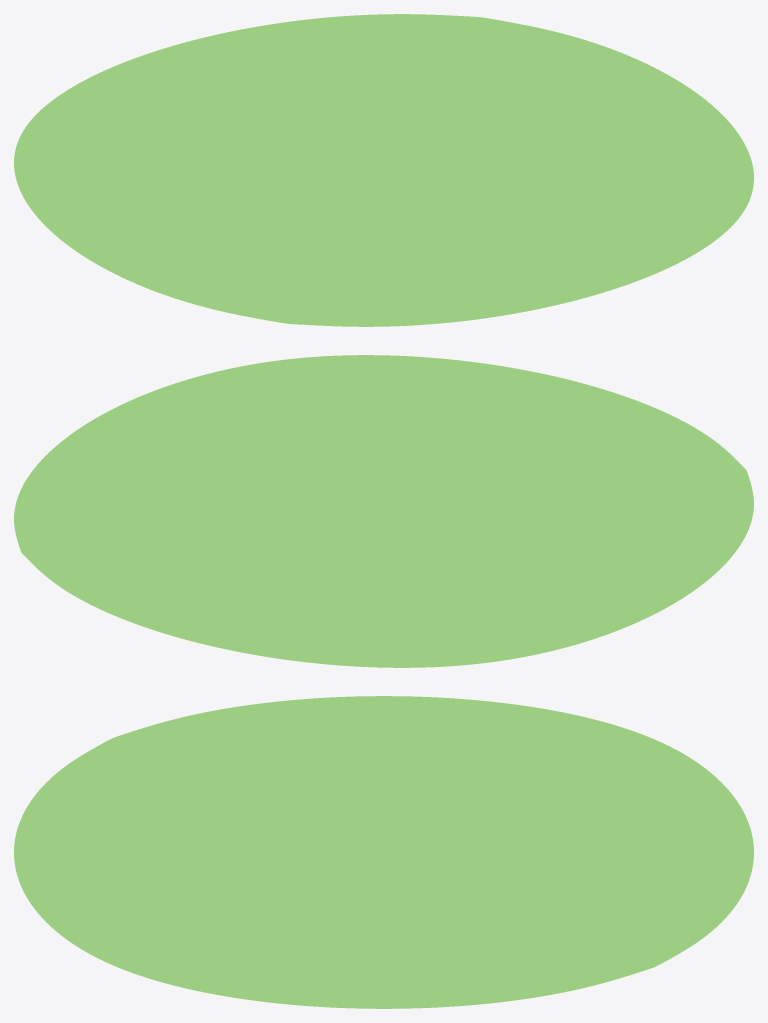
File: ground.glb
The picture shows the model from 3 angles, top to bottom: view 1: azimuth 30°, elevation 25°; view 2: azimuth 150°, elevation 25°; view 3: azimuth 270°, elevation 25°; orthographic projection. The views are drawn at different scales.
Parts seen in each view (by area): view 1: Ground; view 2: Ground; view 3: Ground.
Part boxes in pixels (<box>): Ground: <box>14,14,753,326</box>; Ground: <box>14,355,753,667</box>; Ground: <box>14,696,753,1008</box>.
Size of the model in its own units: 18332 by 0 by 18332.
